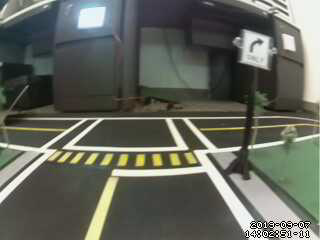Right_only_sign: (235, 24, 272, 71)
